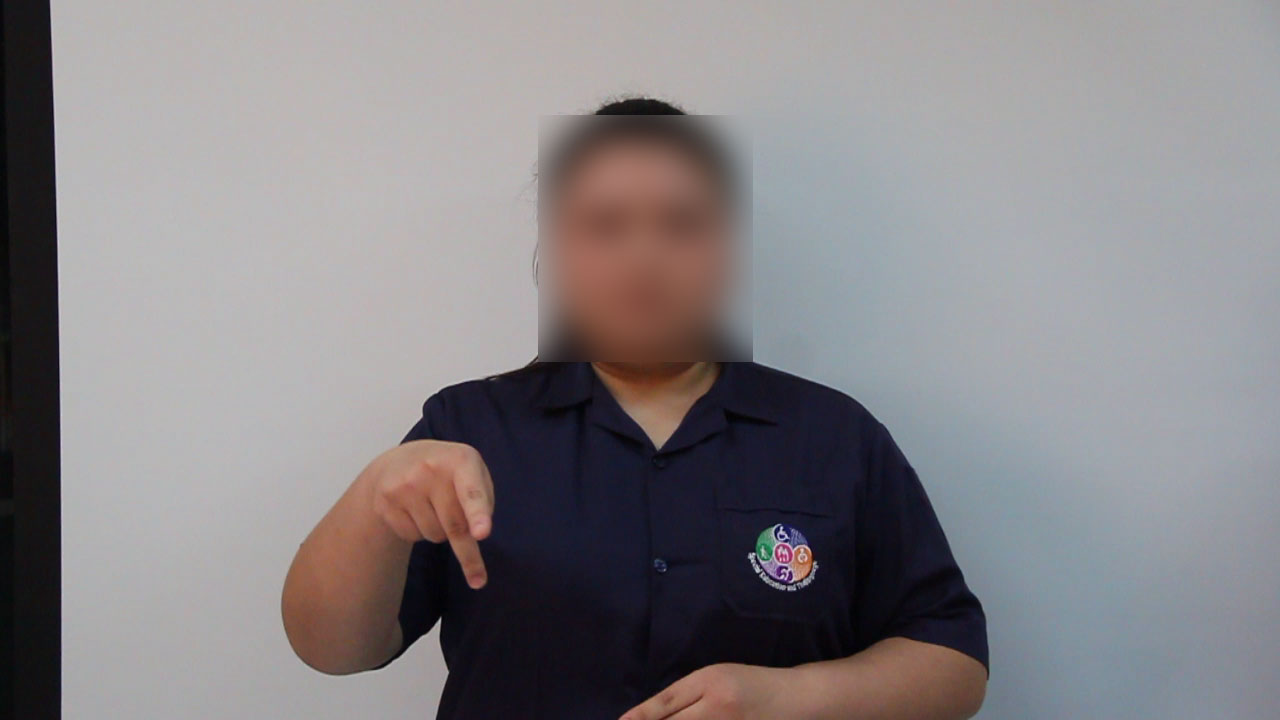por: (369, 425, 513, 602)
